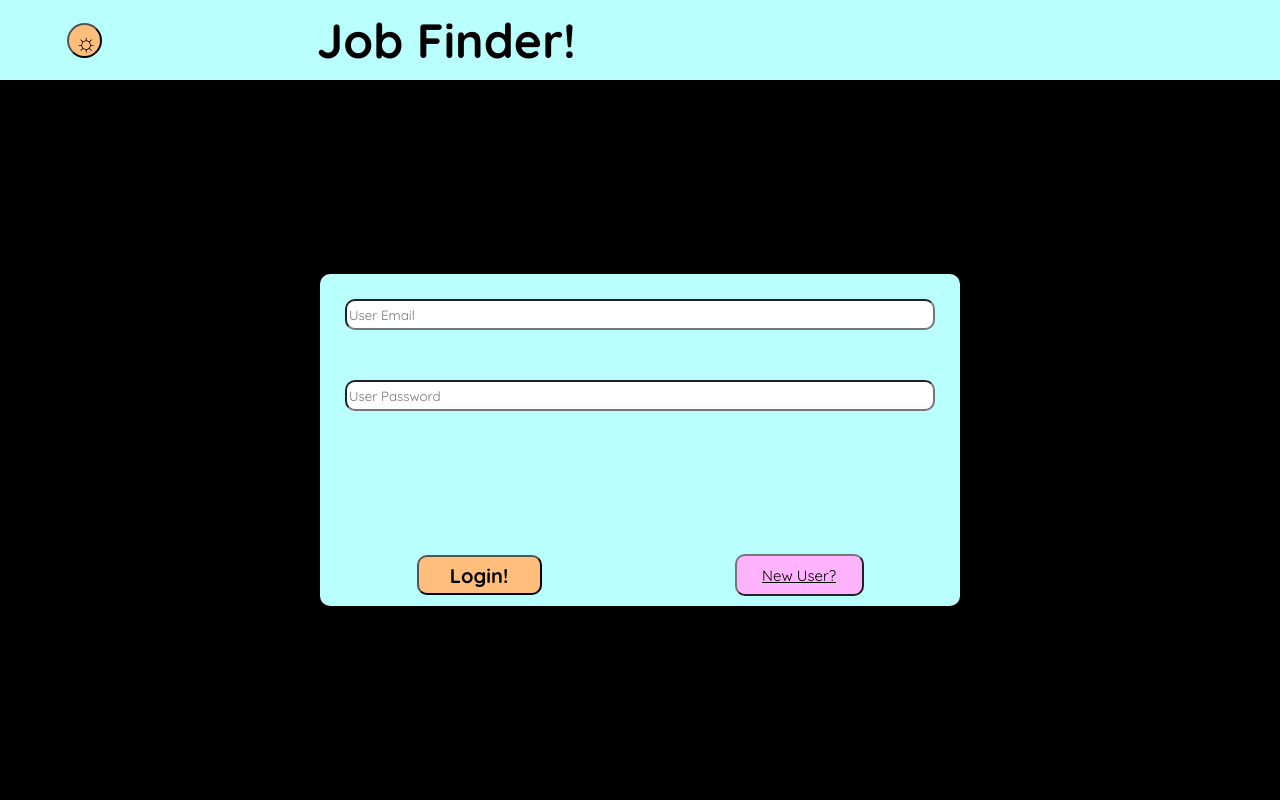
Test case: Sad_path › A user should receive an error when they do not enter any information.
Click the button with test id "loginButton" at (480, 575), box top-left (417, 555), bottom-right (542, 595)
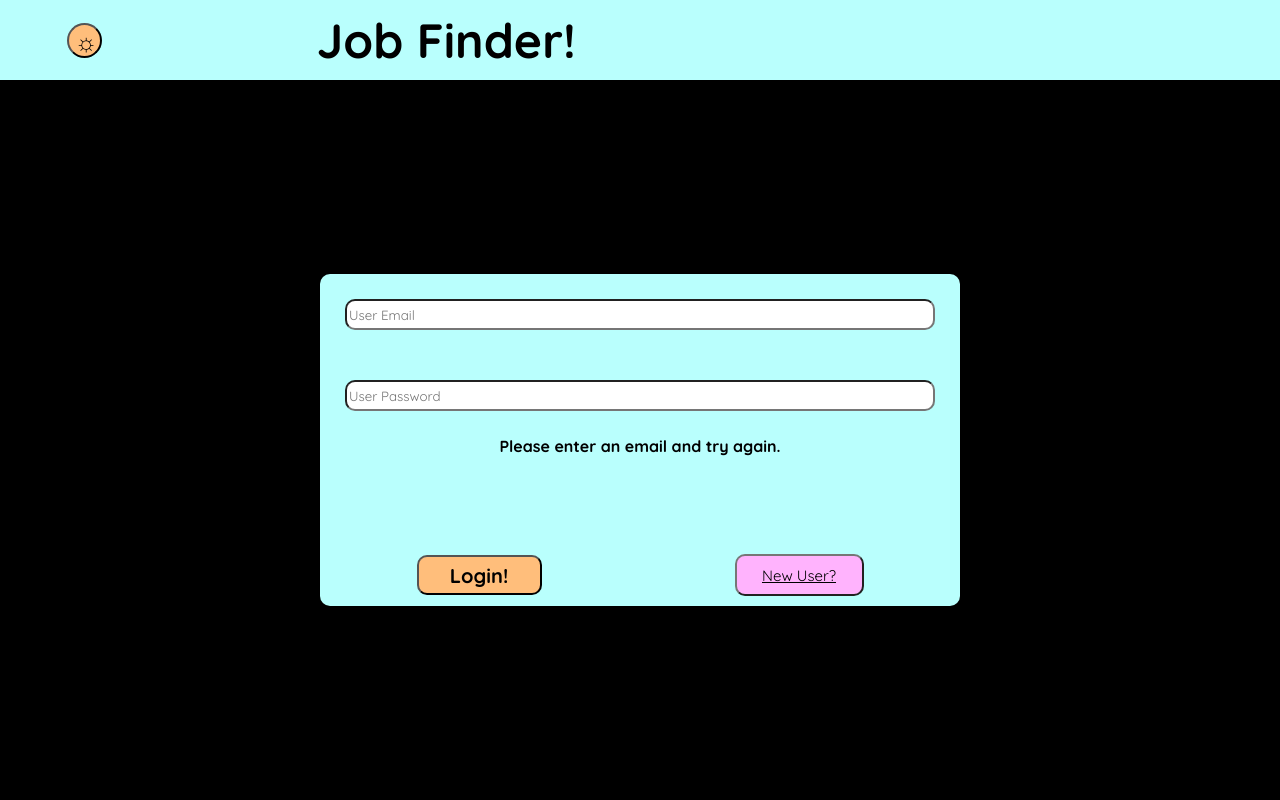
Expected: the text with test id "messages" reads "Please enter an email and try again.", top-left (499, 436), bottom-right (780, 456)
